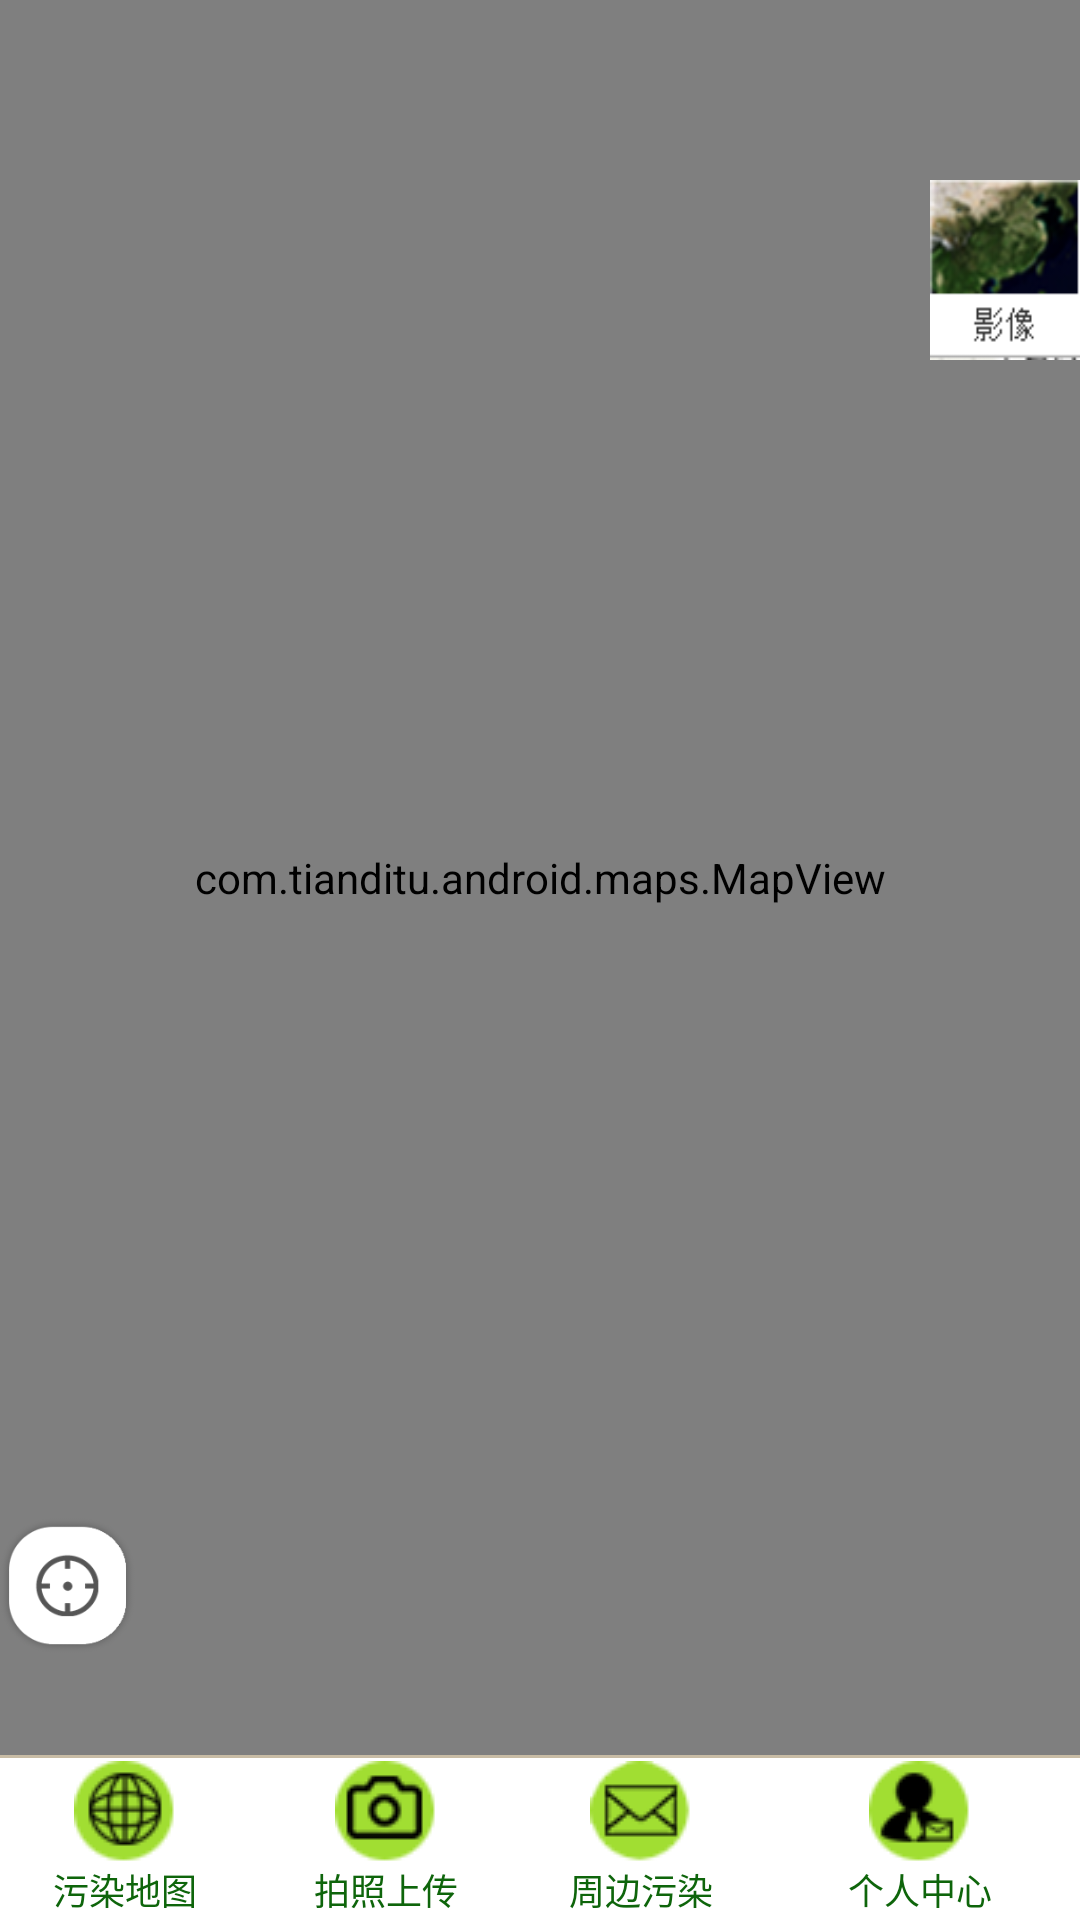

Where icons sit on this 1080*1920 app screen, as Rect(x1, y1, x2, y2):
masage: Rect(590, 1761, 690, 1861)
weixing: Rect(930, 180, 1080, 360)
